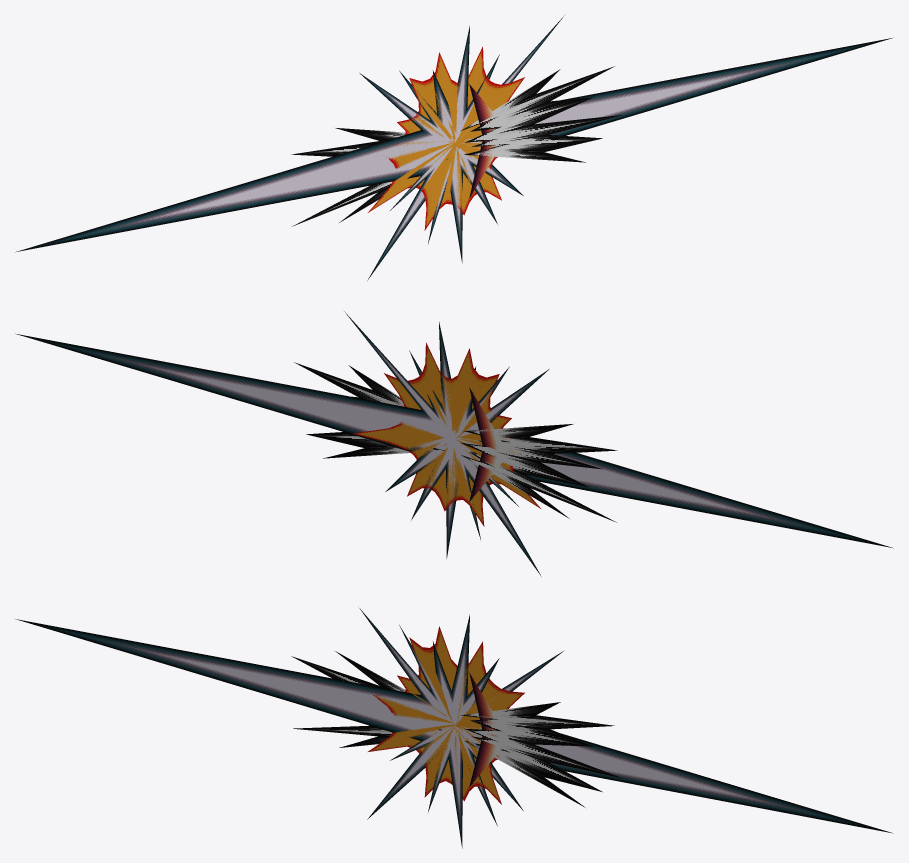
File: EffCommonHitCut.obj
3 renders of one model, top to bottom at view 1: azimuth 30°, elevation 25°; view 2: azimuth 150°, elevation 25°; view 3: azimuth 330°, elevation 25°, orthographic.
Parts seen in each view (by area): view 1: polygon0, polygon4, polygon1, polygon3; view 2: polygon0, polygon1, polygon4, polygon2; view 3: polygon0, polygon4, polygon1, polygon3.
Part boxes in pixels (x1,y1,x2,y2): polygon0: [15, 15, 893, 280]; polygon4: [291, 66, 621, 226]; polygon1: [368, 46, 524, 230]; polygon3: [469, 84, 501, 198]; polygon0: [15, 311, 893, 576]; polygon1: [352, 342, 540, 526]; polygon4: [294, 362, 617, 522]; polygon2: [469, 387, 508, 501]; polygon0: [15, 608, 892, 848]; polygon4: [291, 651, 622, 807]; polygon1: [368, 626, 524, 804]; polygon3: [469, 673, 509, 786].
Size of the model in its own units: 79.82 by 20.55 by 2e-05.
4 materials, 4 textured.
